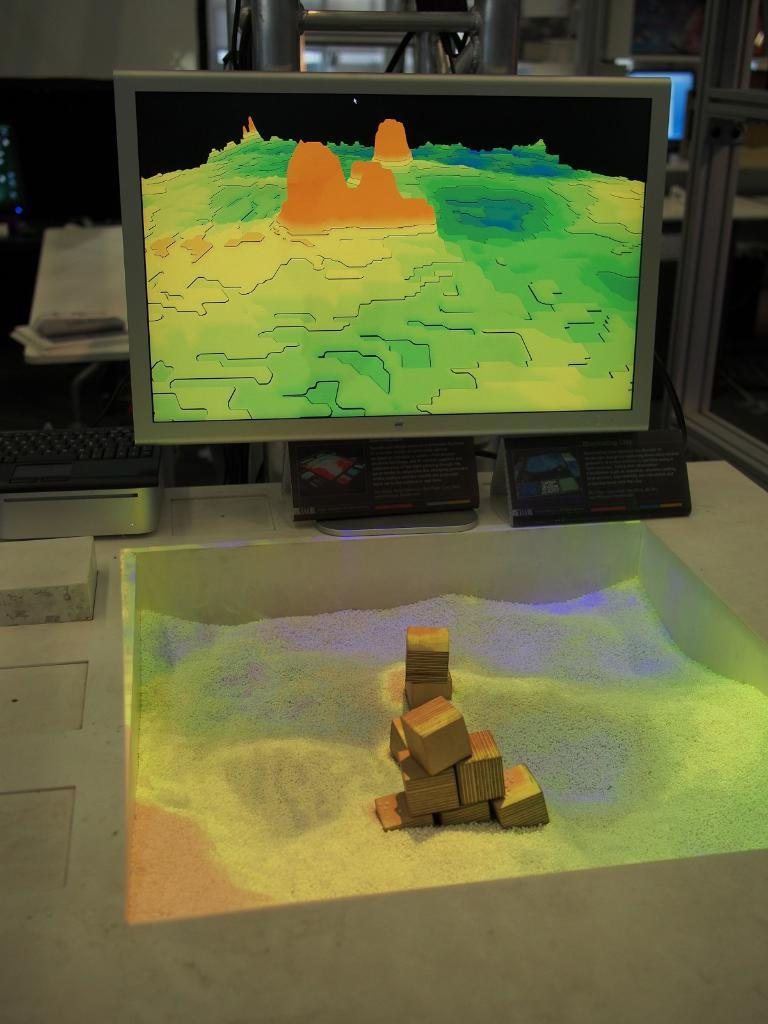Computer-monitor: (106, 67, 671, 540), (625, 72, 699, 156)
